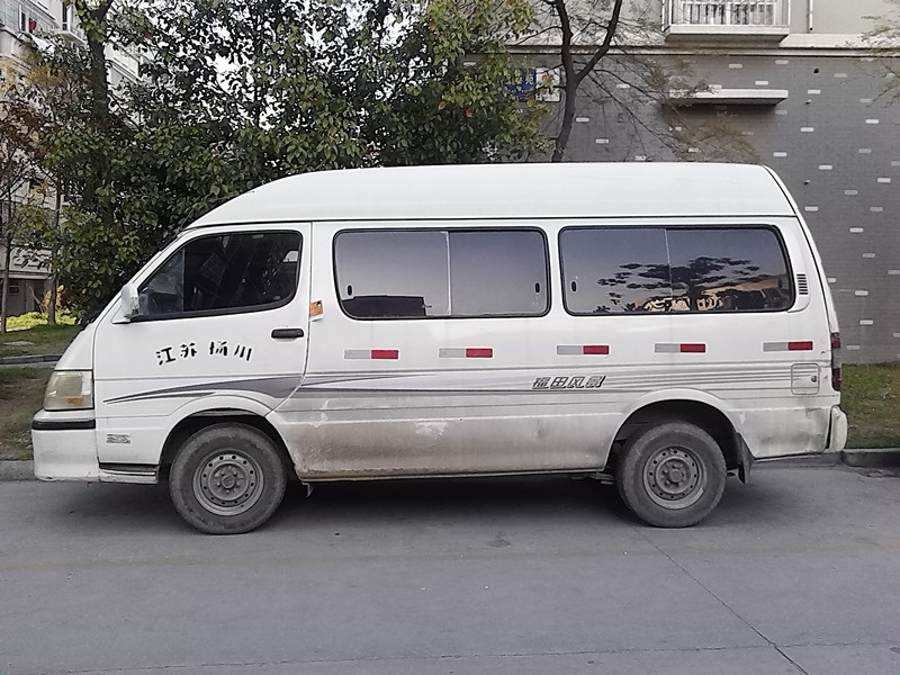minibus: (27, 142, 863, 527)
